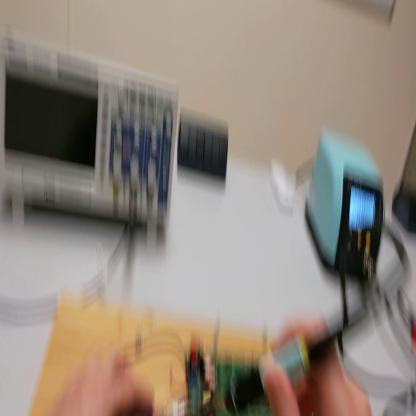hand: (263, 312, 372, 416), (53, 346, 157, 415)
low voltage board: (115, 291, 315, 416)
oscilloscope: (3, 33, 179, 252)
welder probe tip: (200, 314, 361, 414)
welder station: (305, 126, 384, 281)
working area: (29, 295, 317, 415)
